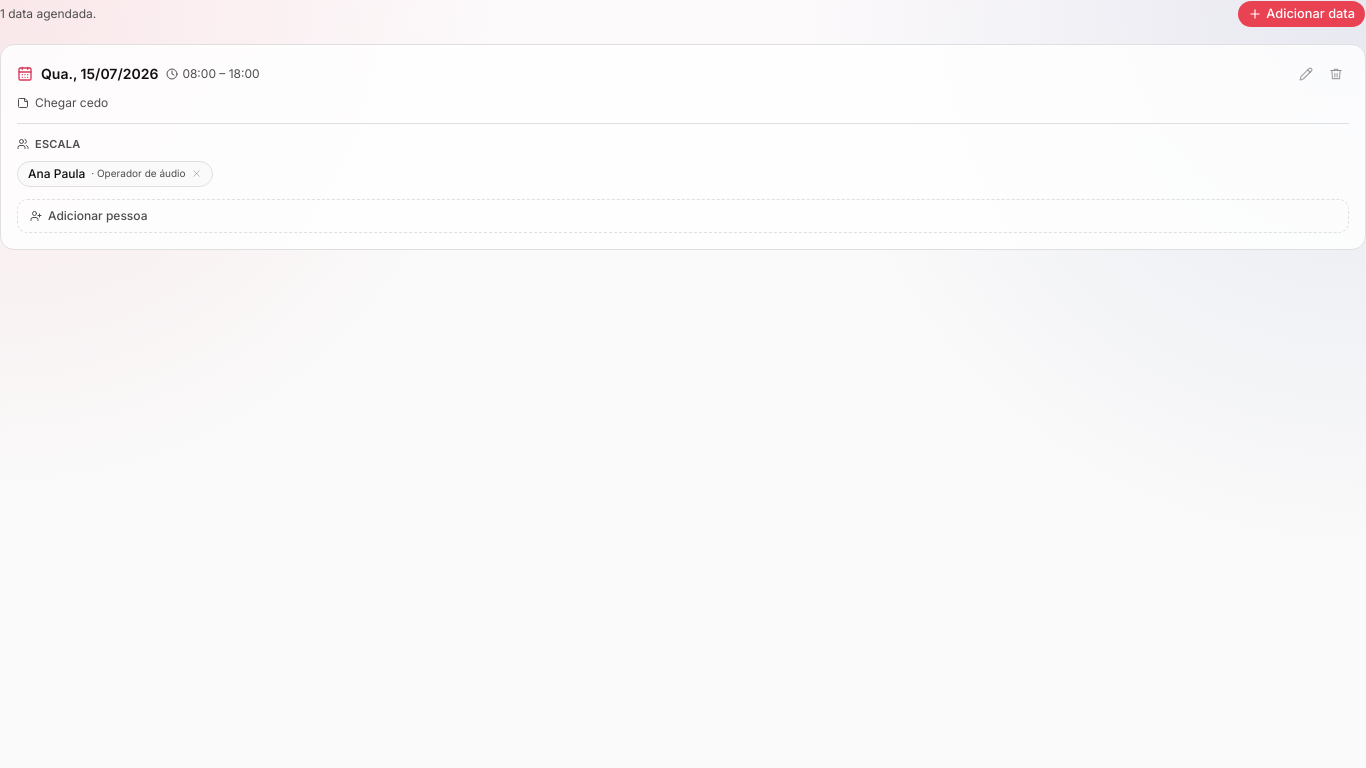
Test: EventDatesPanel › abre o sheet de edição pré-preenchido com a data
Click the button titled "Editar data" at [1306, 74], box [1293,61,1319,87]
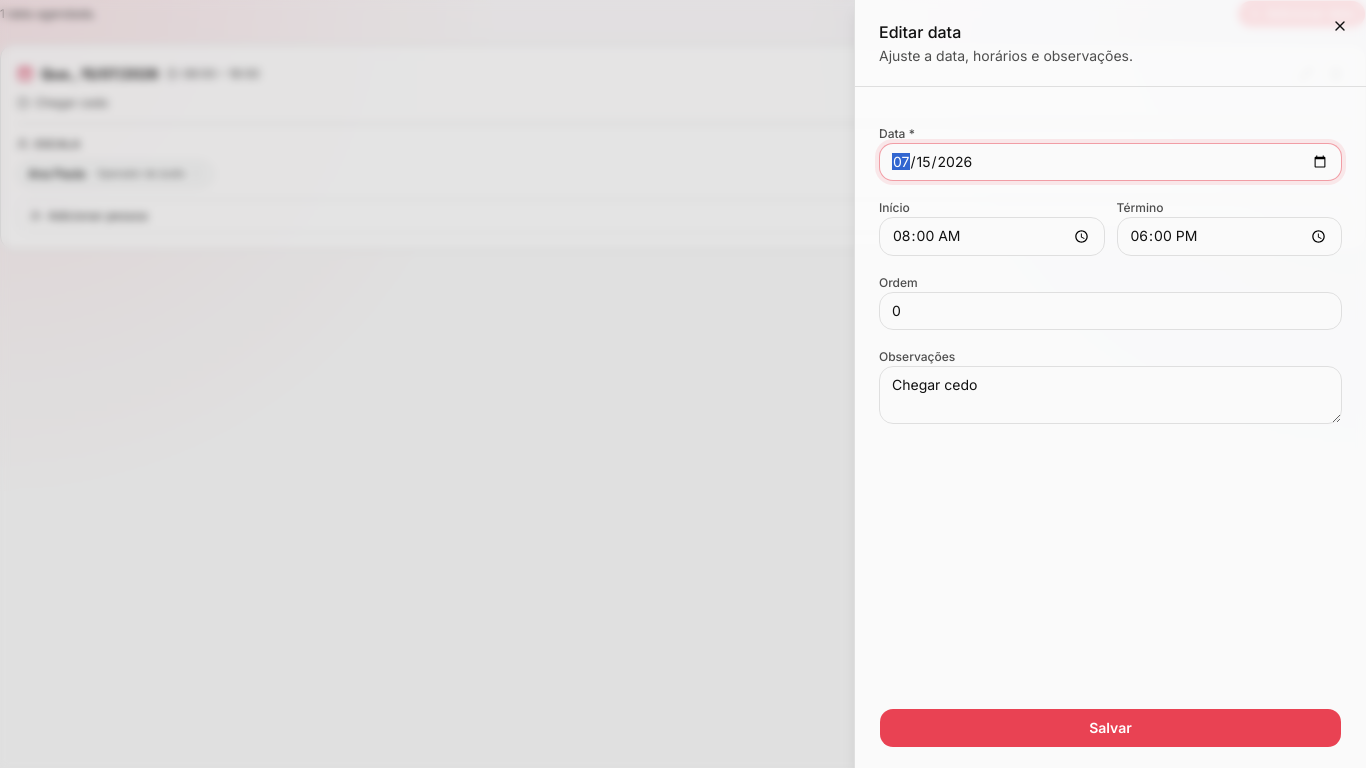
Now the heading "Editar data" is shown, box [879,22,961,42]
Now the date field showing "2026-07-15" is shown, box [879,143,1342,181]
Now the text box showing "Chegar cedo" is shown, box [879,366,1342,424]
